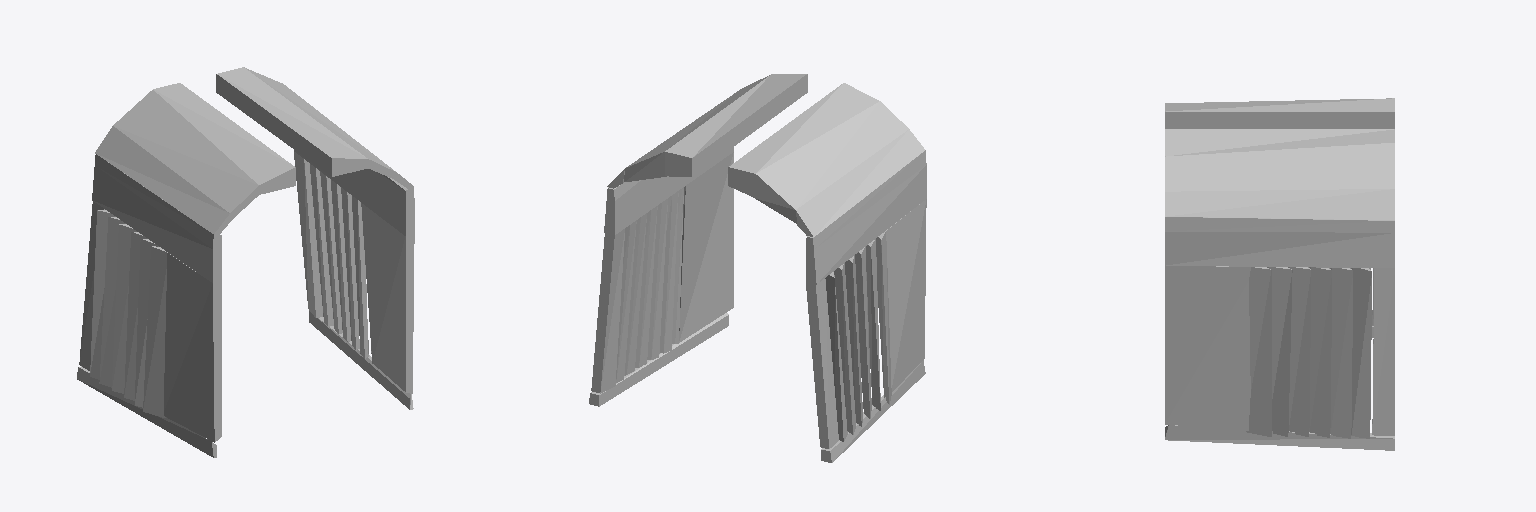
File: modeltenginecover.obj
3 renders of one model, left to right at view 1: azimuth 30°, elevation 25°; view 2: azimuth 150°, elevation 25°; view 3: azimuth 270°, elevation 25°, orthographic.
Visible parts, largest first — view 1: modeltenginecover; view 2: modeltenginecover; view 3: modeltenginecover.
Boxes of the visible parts, <box> form: modeltenginecover: <box>77,67,414,457</box>; modeltenginecover: <box>589,74,926,462</box>; modeltenginecover: <box>1165,98,1394,450</box>.
Size of the model in its own units: 0.8375 by 0.8906 by 0.6875.